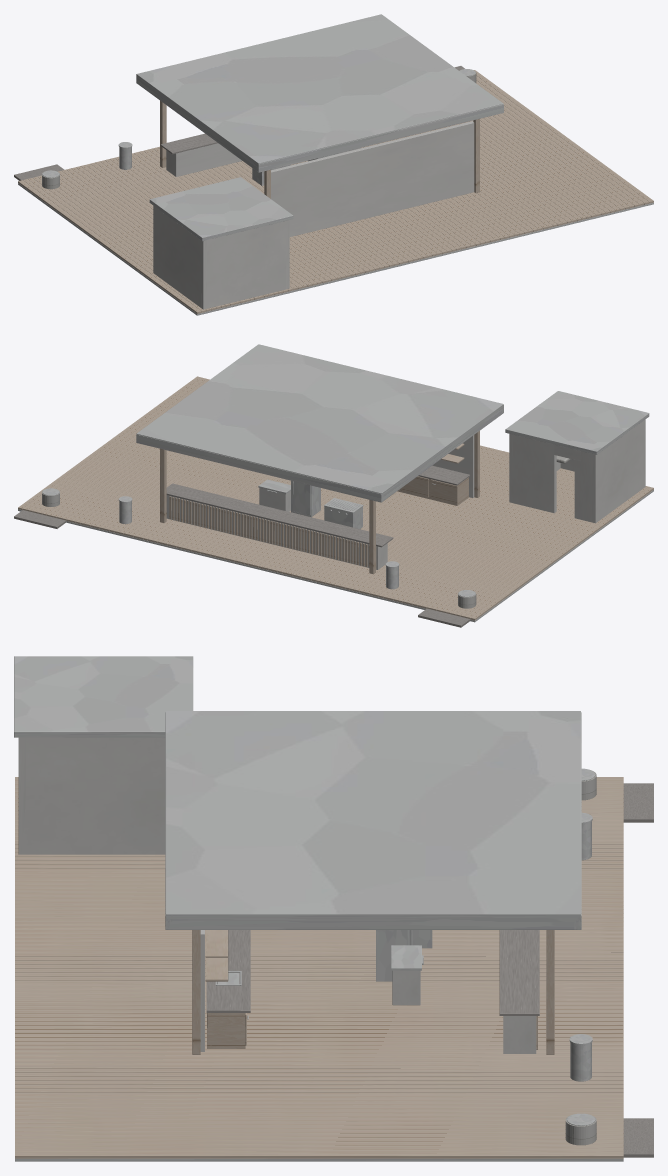
File: KioskShellF02_LOD1.fbx
3 views of the same model, one above another, from view 1: azimuth 30°, elevation 25°; view 2: azimuth 150°, elevation 25°; view 3: azimuth 270°, elevation 25° (orthographic). The views are drawn at different scales.
Parts seen in each view (by area): view 1: KioskShellF02_LOD1; view 2: KioskShellF02_LOD1; view 3: KioskShellF02_LOD1.
Boxes of the visible parts, x1,y1,x2,y2 form: KioskShellF02_LOD1: [14, 14, 653, 315]; KioskShellF02_LOD1: [14, 344, 653, 627]; KioskShellF02_LOD1: [14, 656, 653, 1161].
Size of the model in its own units: 19 by 3.74 by 13.56.
